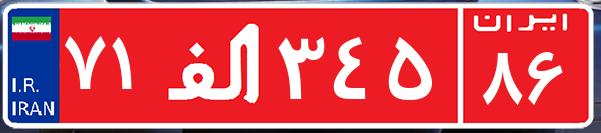1: (110, 28, 158, 105)
3: (273, 28, 330, 110)
4: (330, 28, 385, 110)
5: (385, 28, 445, 110)
6: (525, 38, 570, 115)
7: (57, 26, 110, 107)
8: (475, 38, 525, 113)
الف: (158, 15, 273, 115)
